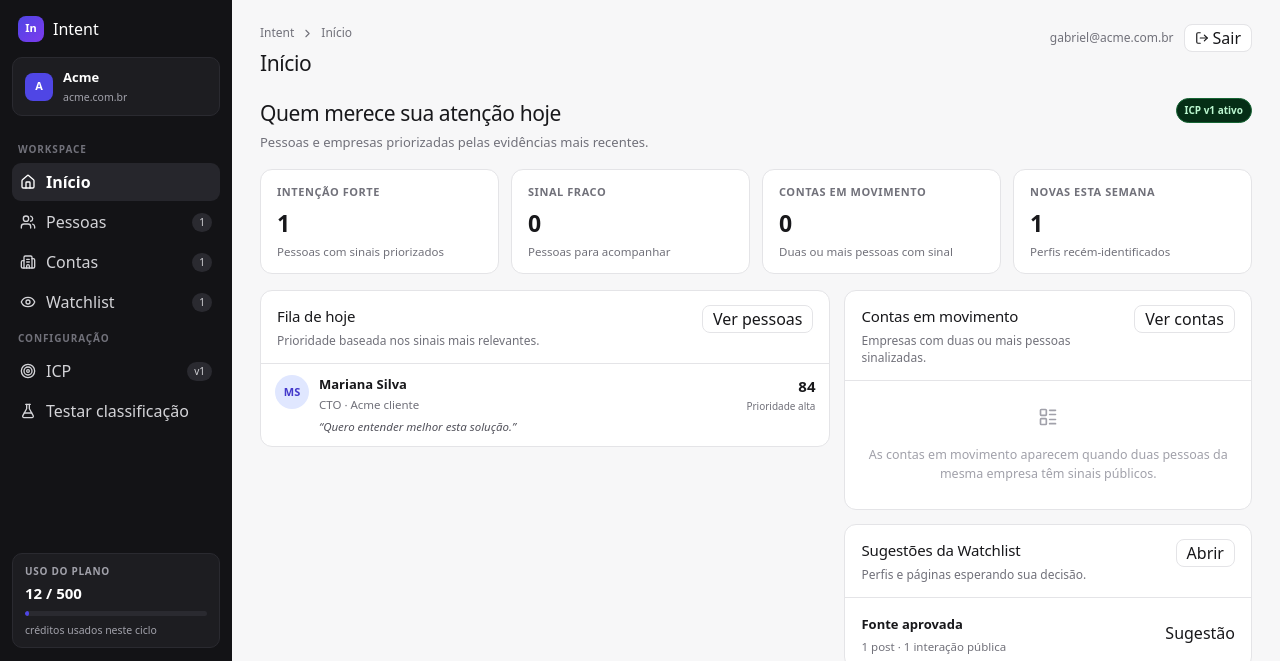
IntentV1Workspace › asks for visible confirmation before consulting a contact
Expected: the heading "Início" is shown, [260,49,311,77]
Click the button "Pessoas 1" at {"x": 116, "y": 222}, box [12,203,220,241]
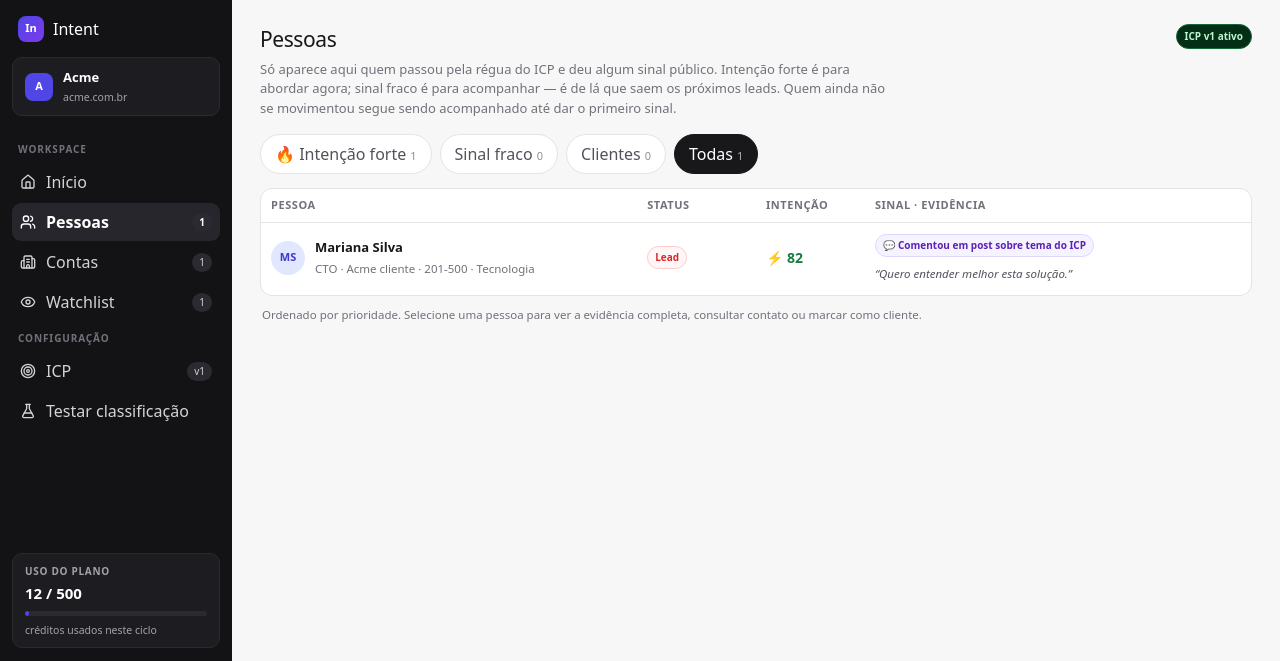
Click the row named "Abrir detalhes de Mariana Silva" at {"x": 288, "y": 258}, box [261,222,1251,293]
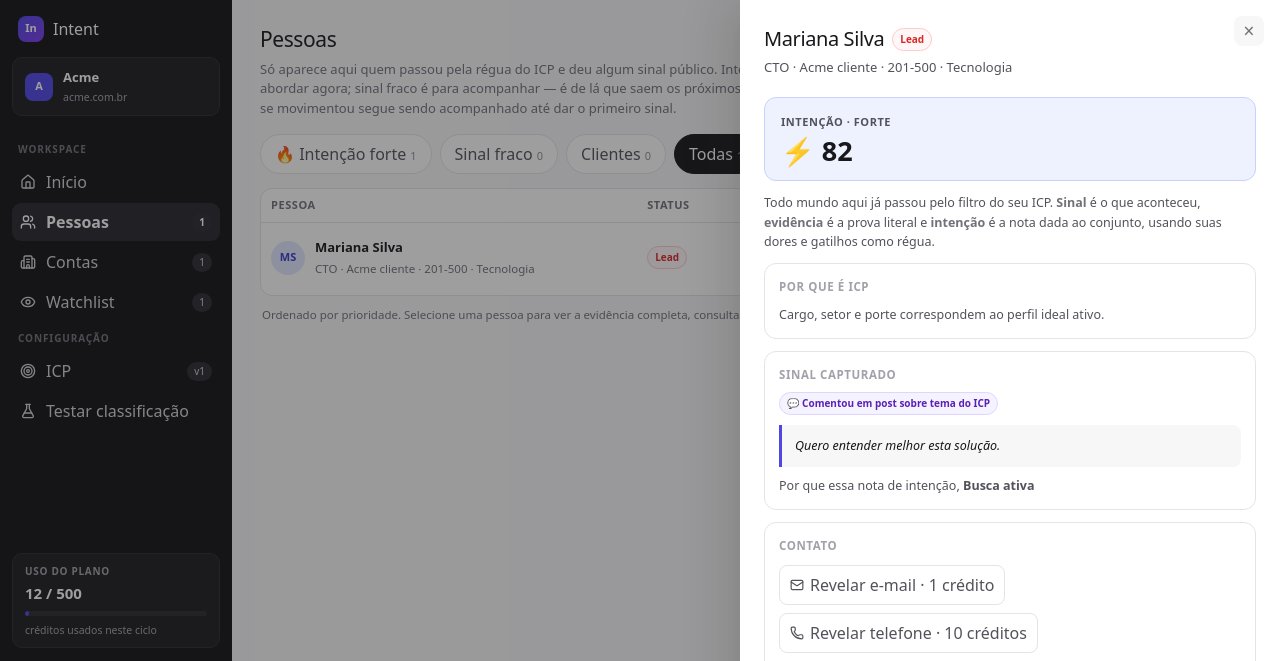
Click the button "Revelar e-mail · 1 crédito" at {"x": 892, "y": 585}, box [779,565,1005,605]
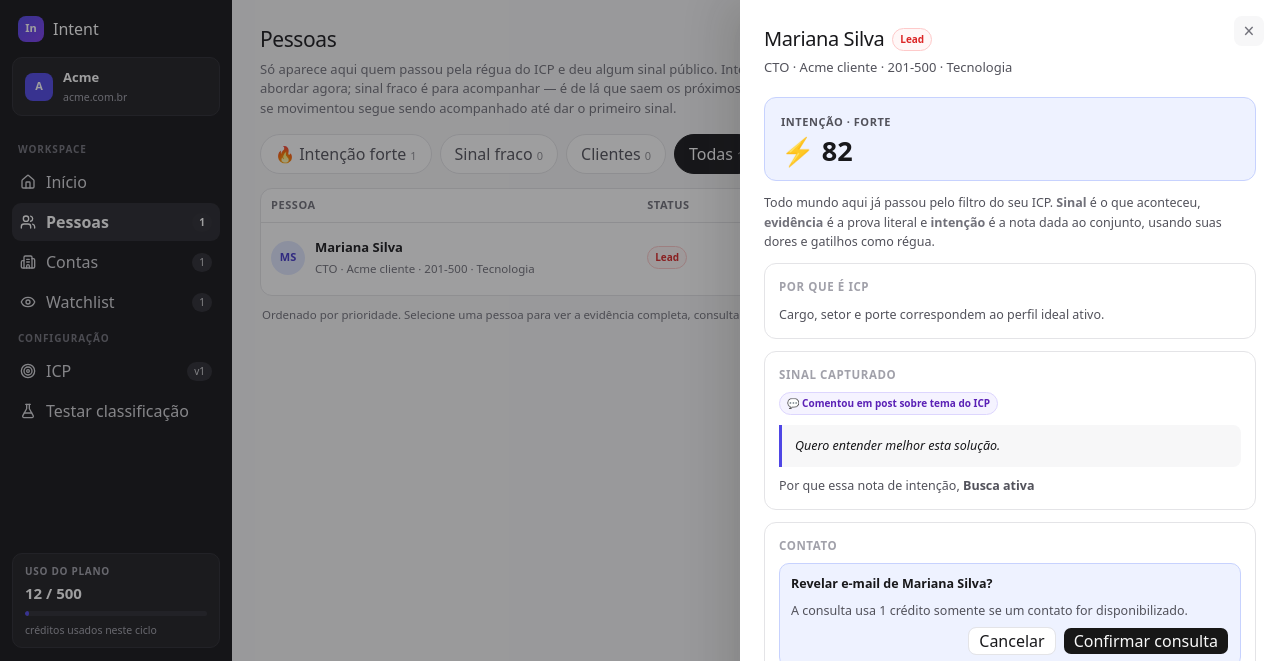
Result: the text "Revelar e-mail de Mariana Silva?" is shown at [791,575,992,592]
Click the button "Confirmar consulta" at {"x": 1146, "y": 642}, box [1063,628,1229,656]
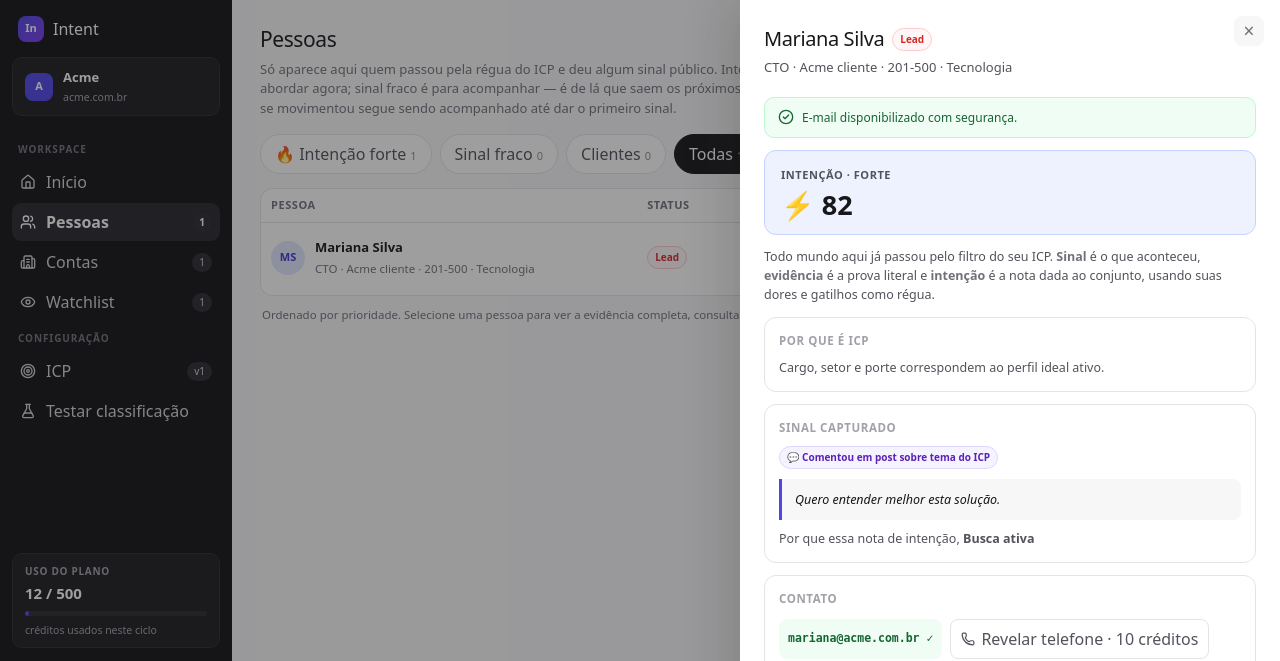
Result: the text "mariana@acme.com.br ✓" is shown at [779,619,942,659]
Result: the button "Revelar telefone · 10 créditos" is shown at [950,619,1209,659]
